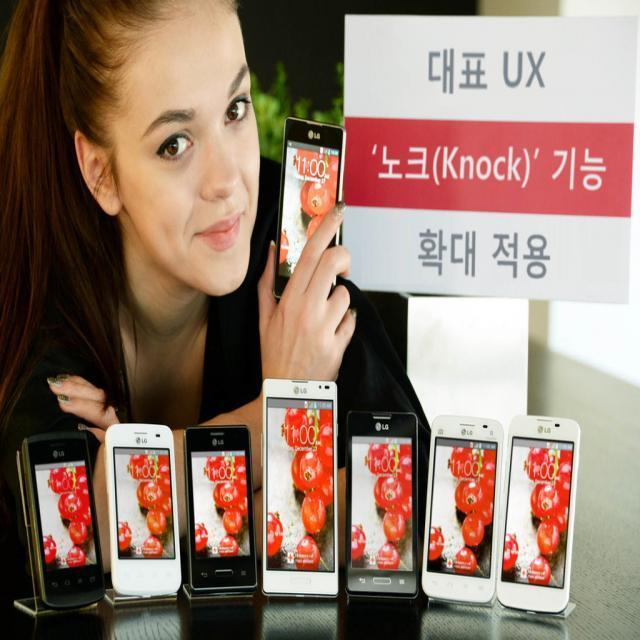Phone: (261, 377, 340, 600), (494, 414, 578, 614), (14, 434, 108, 610), (419, 414, 502, 604), (272, 111, 348, 304), (103, 422, 182, 597), (344, 410, 417, 596), (181, 423, 256, 596)
